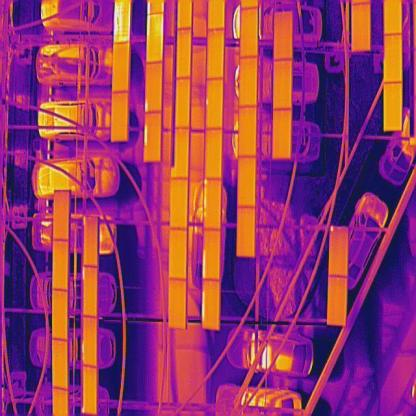Cell: (206, 78, 224, 132), (329, 226, 348, 275)
No-Anomaly: (327, 276, 348, 326), (238, 106, 258, 156), (236, 207, 256, 257), (351, 2, 371, 52), (272, 110, 292, 159), (238, 157, 257, 208), (169, 229, 188, 280), (206, 29, 225, 80), (274, 58, 292, 110), (205, 128, 223, 180), (52, 239, 70, 291), (384, 32, 402, 84), (168, 279, 187, 328), (240, 7, 258, 58), (171, 177, 188, 230), (113, 42, 130, 94), (240, 57, 258, 106), (384, 81, 402, 130), (53, 191, 71, 240), (176, 76, 192, 130), (174, 126, 190, 180), (52, 290, 69, 340), (275, 11, 292, 61), (176, 27, 192, 80), (83, 217, 99, 268), (112, 91, 128, 141), (82, 317, 98, 367), (82, 366, 98, 416), (53, 339, 68, 390)
Unclassified: (202, 279, 221, 330), (145, 60, 162, 116), (204, 179, 222, 231), (146, 13, 164, 65), (144, 111, 162, 162), (203, 229, 221, 279), (82, 266, 98, 317), (113, 0, 131, 43)
